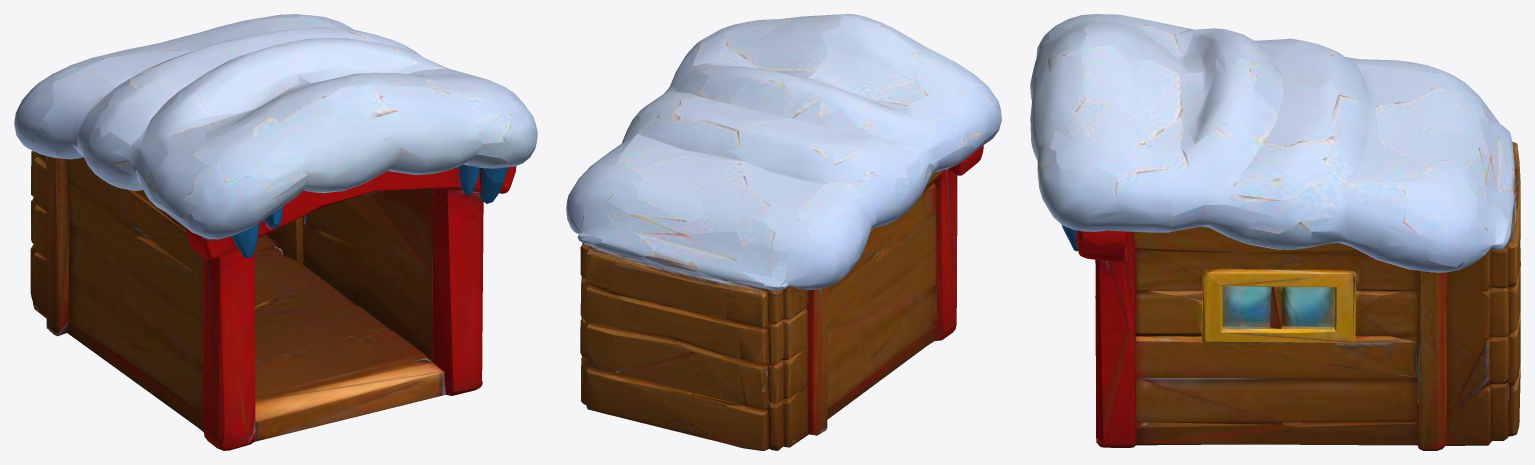
File: sne-starthus.glb
The picture shows the model from 3 angles, left to right: view 1: azimuth 30°, elevation 25°; view 2: azimuth 150°, elevation 25°; view 3: azimuth 270°, elevation 25°; orthographic projection. The views are drawn at different scales.
Bounding box in the file's own units: 1.62 × 1.47 × 1.9.
1 material, 1 textured.
